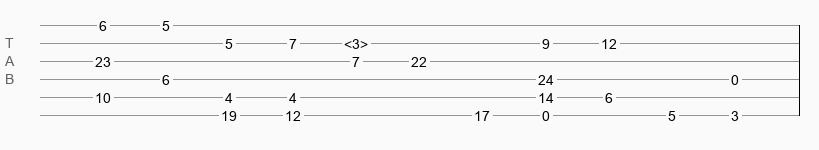0: (542, 108, 550, 118), (731, 72, 739, 82)
10: (95, 90, 111, 100)
12: (285, 108, 301, 118), (601, 36, 617, 46)
14: (538, 90, 554, 100)
17: (474, 108, 490, 118)
19: (221, 108, 237, 118)
22: (411, 54, 427, 64)
23: (95, 54, 111, 64)
24: (538, 72, 554, 82)
3: (731, 108, 739, 118)
4: (225, 90, 233, 100), (289, 90, 297, 100)
5: (162, 18, 170, 28), (225, 36, 233, 46), (668, 108, 676, 118)
6: (99, 18, 107, 28), (162, 72, 170, 82), (605, 90, 613, 100)
7: (289, 36, 297, 46), (352, 54, 360, 64)
9: (542, 36, 550, 46)
harmonic: (344, 36, 368, 46)
